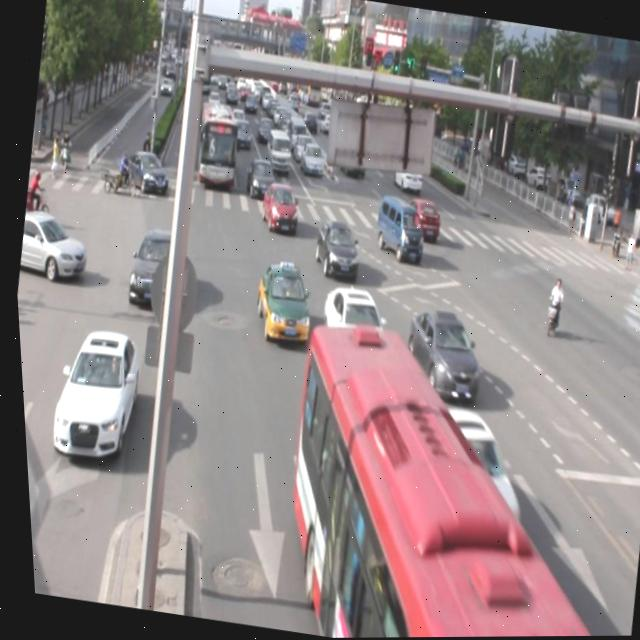car: (416, 403, 531, 546), (39, 324, 145, 464), (395, 305, 485, 406), (245, 258, 316, 345), (312, 284, 388, 365), (120, 223, 185, 311), (307, 217, 361, 281), (255, 179, 301, 238), (401, 195, 441, 241)
truck: (367, 193, 426, 262)
van: (256, 313, 640, 639)
